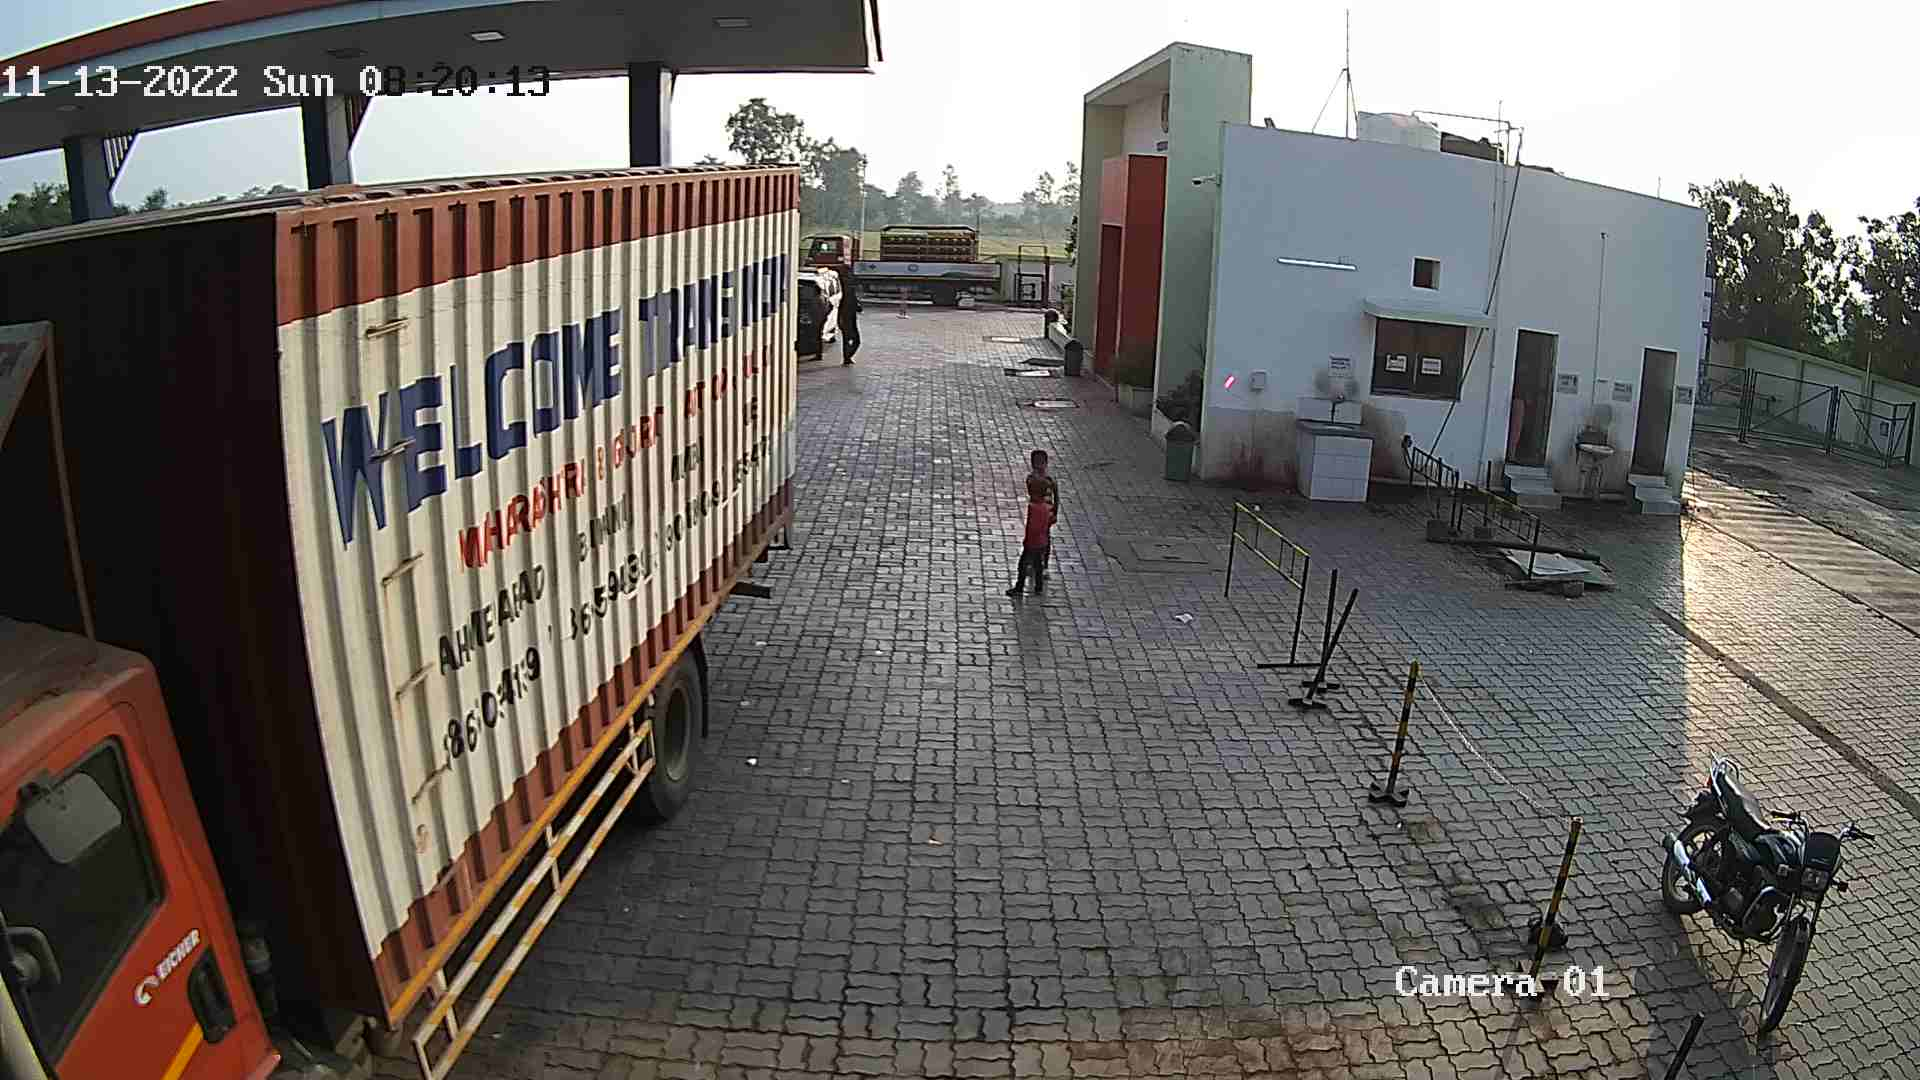Bike: (1640, 756, 1870, 1052)
Car: (791, 257, 851, 363)
HMV: (1, 140, 819, 1077), (796, 220, 1017, 313)
